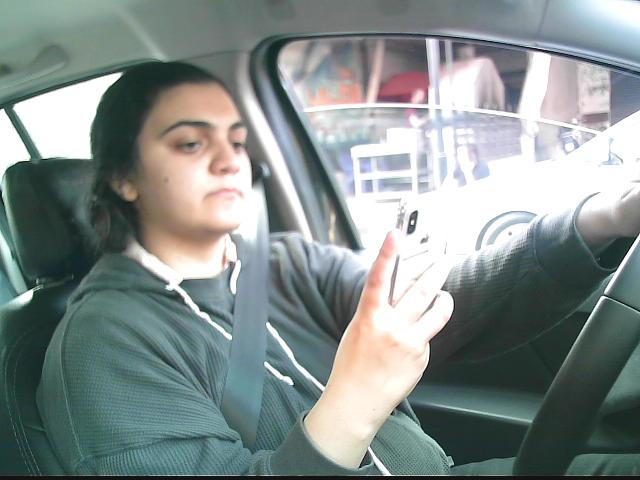PhoneUse: (389, 192, 461, 315)
